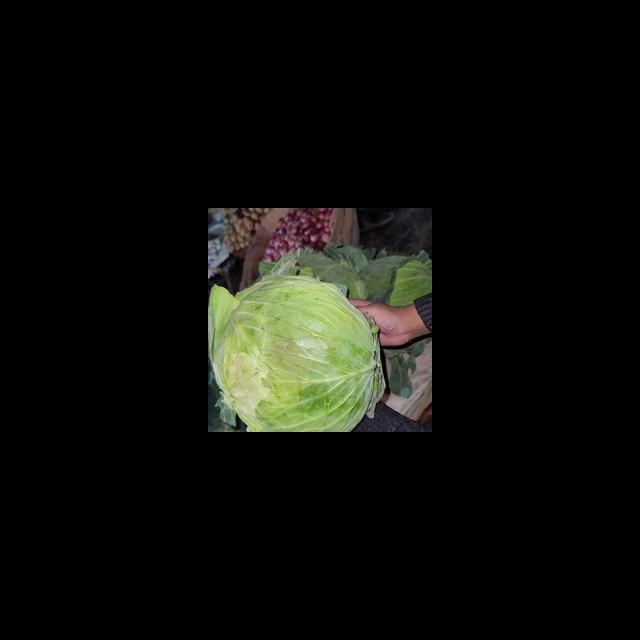cabbage: (210, 276, 386, 432)
